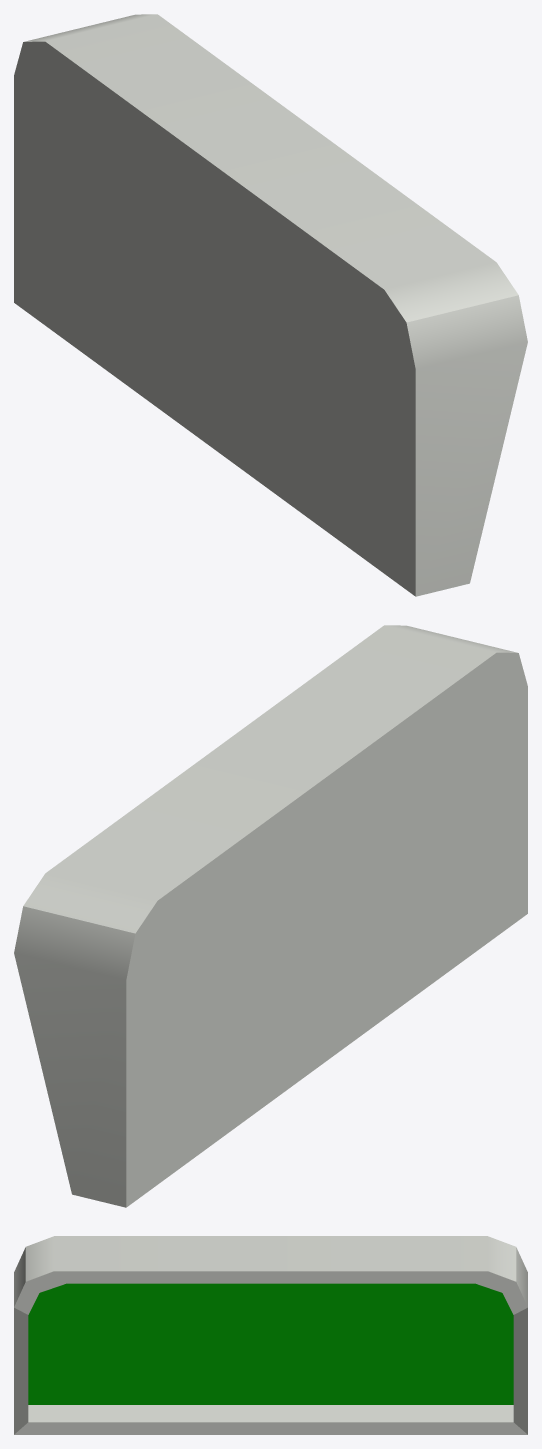
Rendered from Exit Sign.fbx.
The picture shows the model from 3 angles, top to bottom: view 1: azimuth 30°, elevation 25°; view 2: azimuth 150°, elevation 25°; view 3: azimuth 270°, elevation 25°; orthographic projection. The views are drawn at different scales.
Parts seen in each view (by area): view 1: pCube11; view 2: pCube11; view 3: pCube11.
Boxes of the visible parts, x1=… form: pCube11: x1=14, y1=14, x2=527, y2=596; pCube11: x1=14, y1=625, x2=527, y2=1207; pCube11: x1=14, y1=1236, x2=527, y2=1434.
Size of the model in its own units: 0.1129 by 0.273 by 0.6996.
